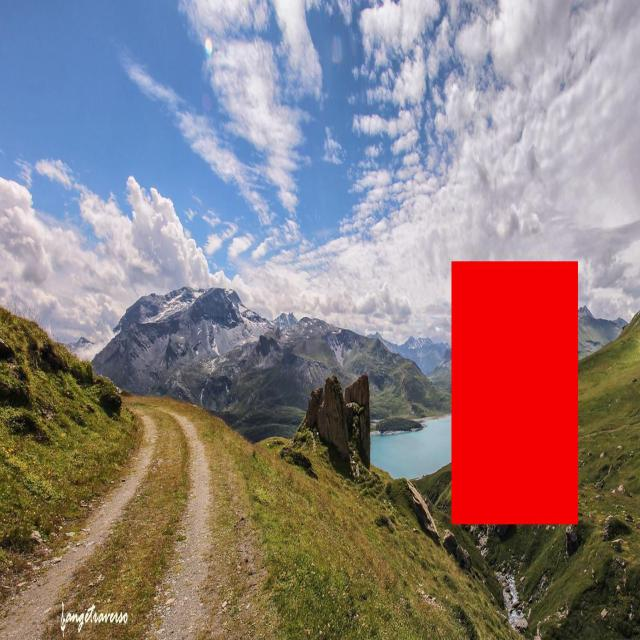RedSquare: (449, 255, 583, 532)
